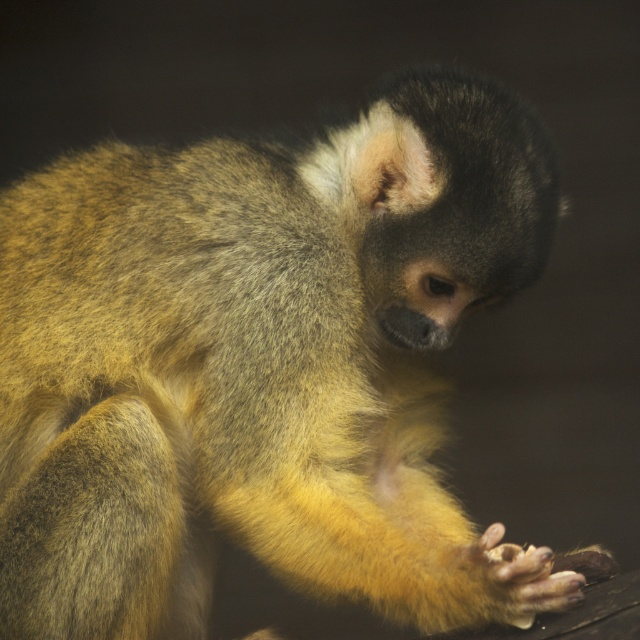Monkey: (0, 62, 586, 640)
